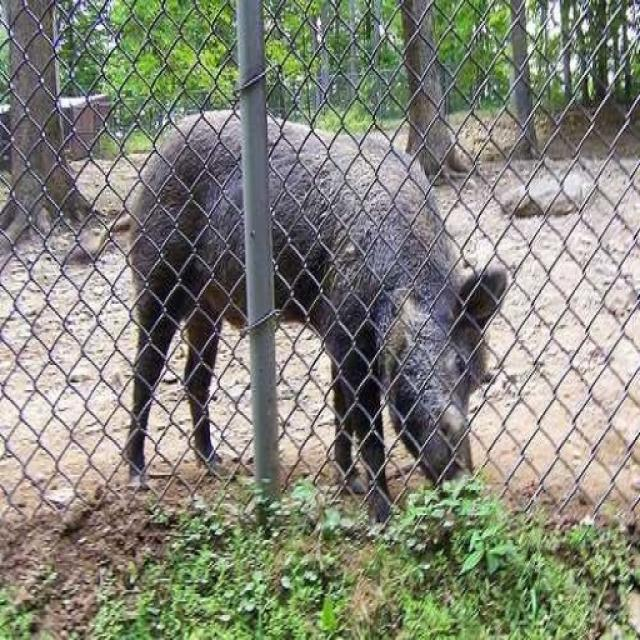pig: (183, 96, 536, 478)
